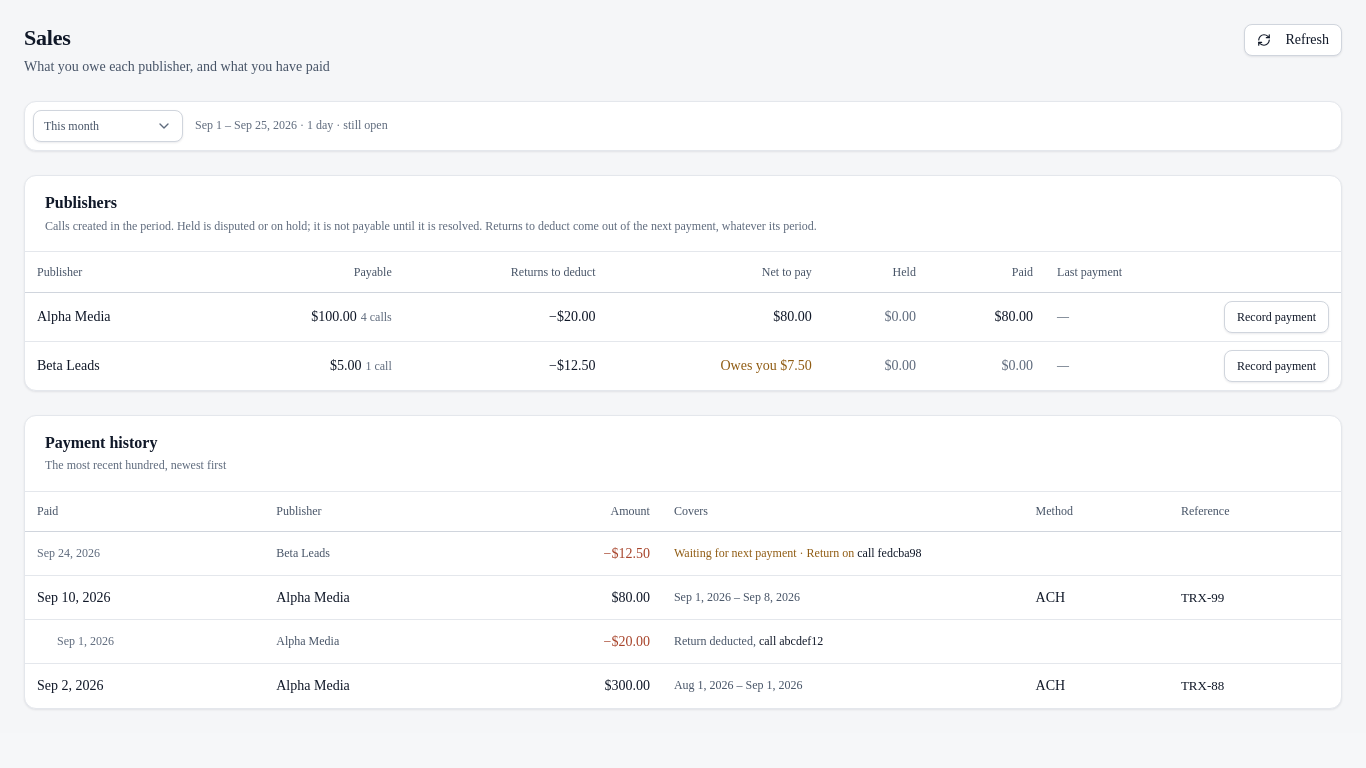
Test: white-label screens › /payouts › shows payable, less returns and net in the dialog, and will not save when returns are more
Expected: the row that starts with "Beta Leads" is shown, [25,341,1341,390]
Click the button "Record payment" in the row of "$5.00" at coordinates (1276, 366), box [1224,350,1329,382]
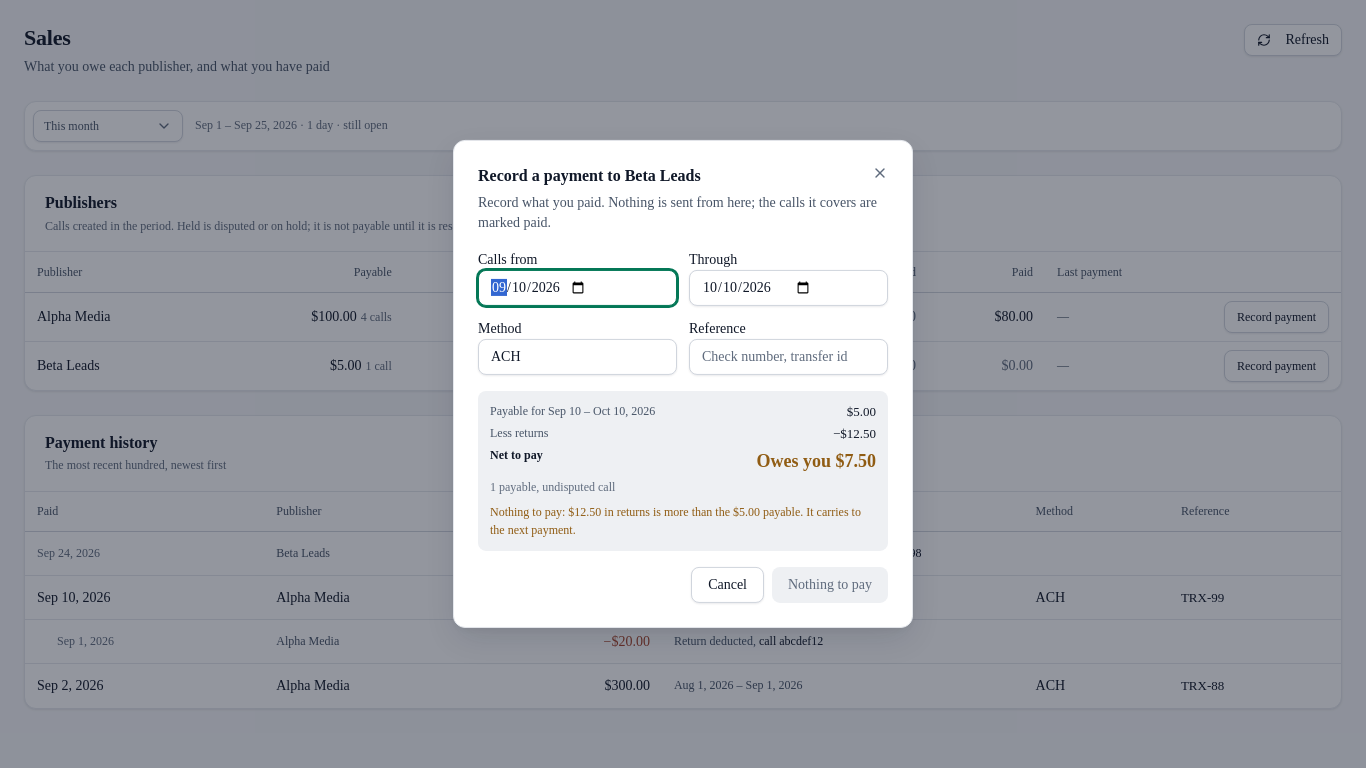
Result: the element showing "Owes you $7.50" is shown at [756,447,876,475]
Result: the element showing "$5.00" is shown at [847,404,876,418]
Result: the text "−$12.50" is shown at [833,426,876,441]
